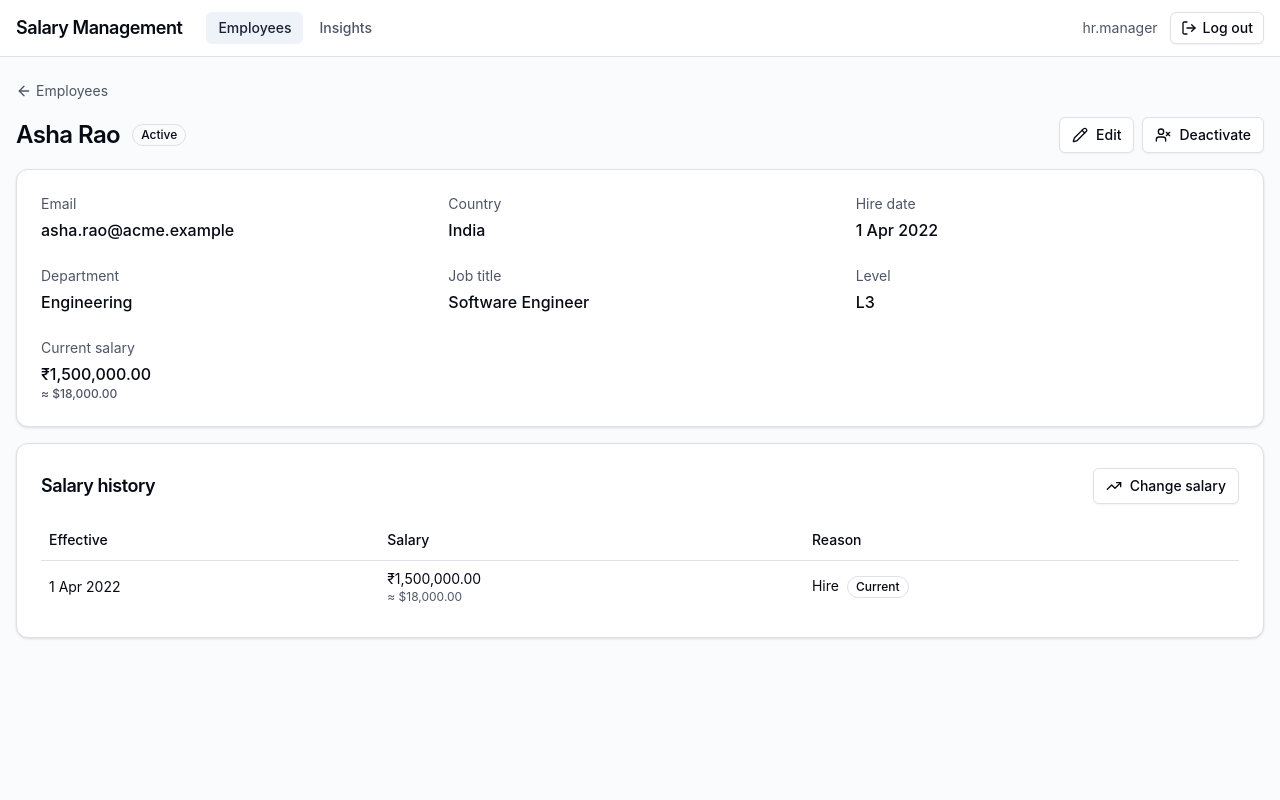
Test case: deactivating and reactivating › deactivates after confirmation and shows the new status
Check: the heading "Asha Rao" is shown, box [16,119,120,151]
Click the button "Deactivate".
click(1203, 135)  # box [1142,117,1264,153]
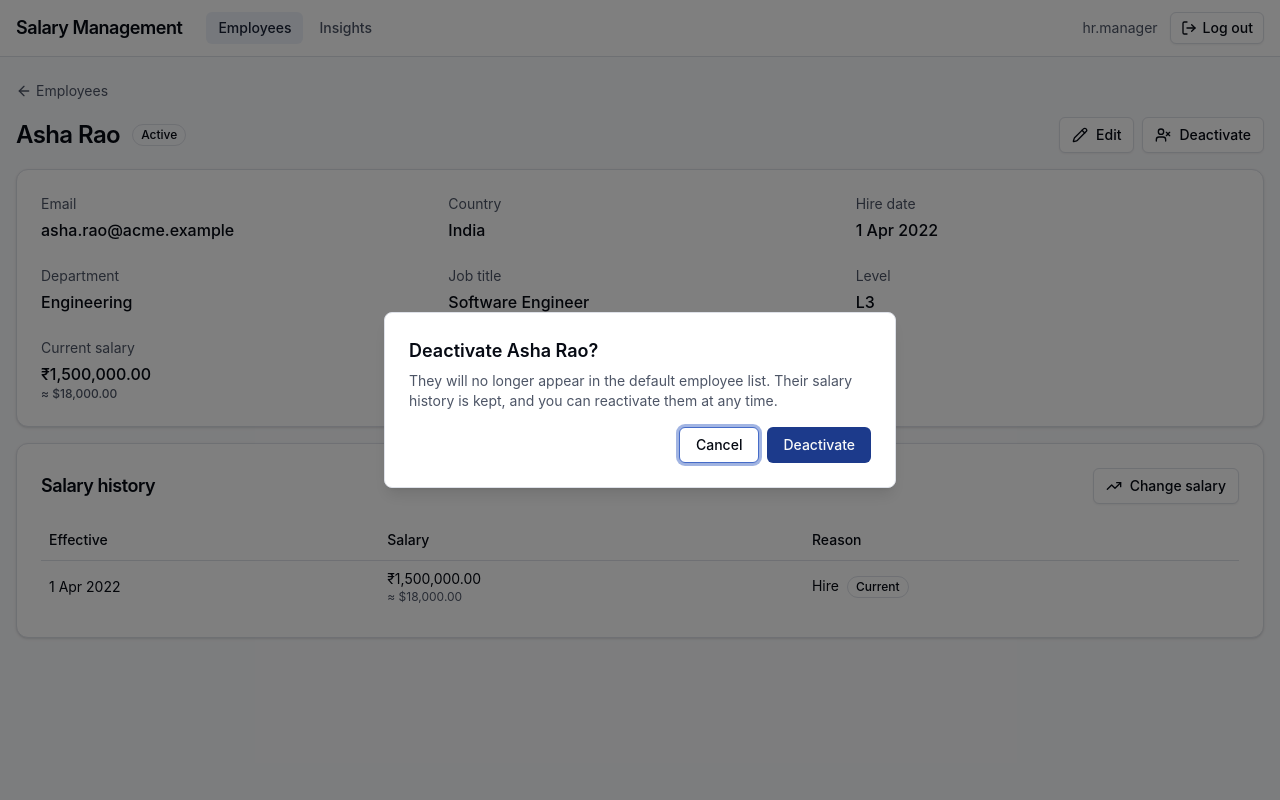
Click the button "Deactivate".
click(819, 445)  # box [768,427,871,463]
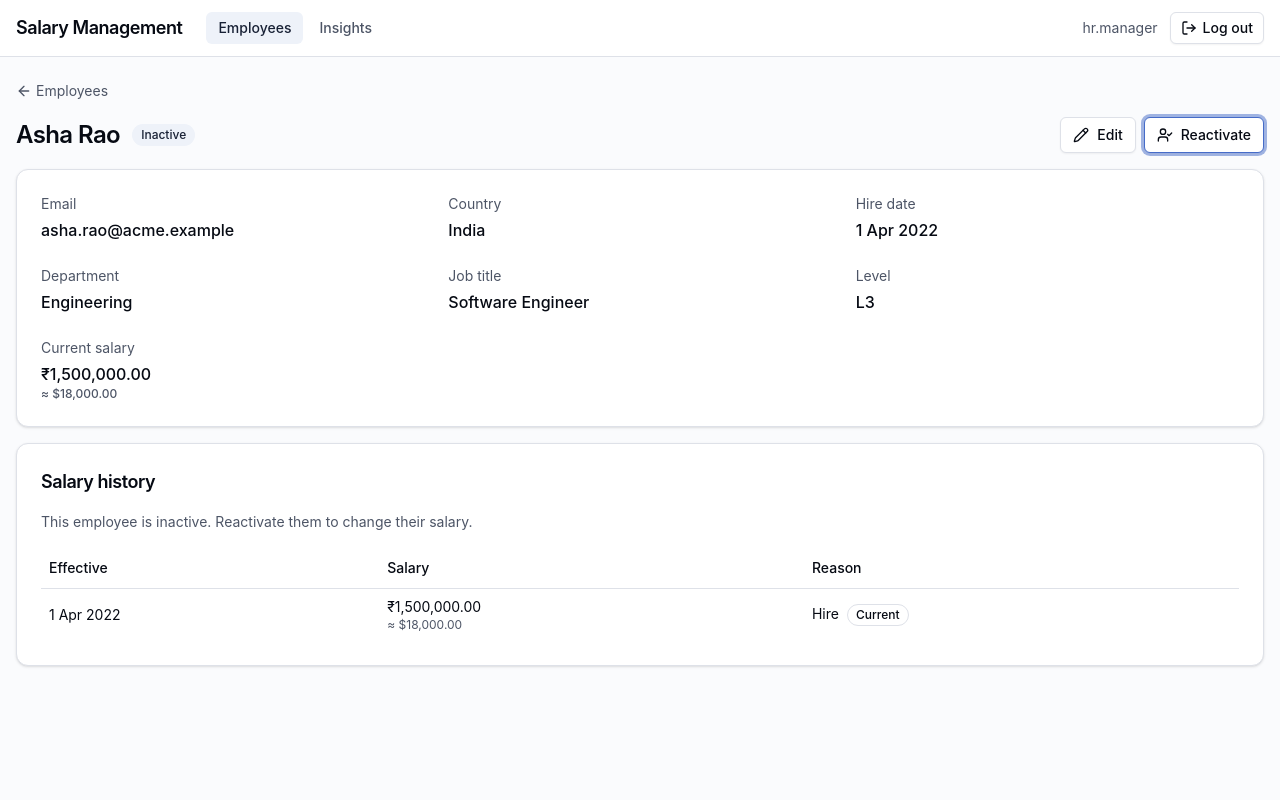
Check: the text "Inactive" is shown, box [132,124,195,146]
Check: the button "Reactivate" is shown, box [1144,117,1264,153]
